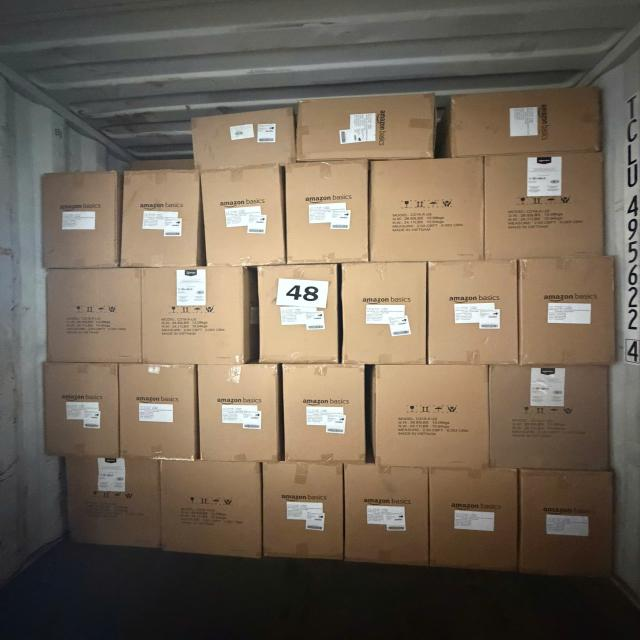Carton: (485, 154, 611, 262), (487, 366, 613, 472), (372, 364, 494, 470), (369, 162, 485, 268), (0, 165, 116, 268), (449, 86, 608, 160), (518, 256, 618, 370), (137, 264, 248, 364), (518, 470, 616, 583), (157, 464, 259, 564), (429, 261, 522, 369), (431, 468, 522, 577), (303, 92, 441, 162), (44, 265, 142, 363), (65, 456, 165, 550), (342, 459, 428, 566), (340, 262, 426, 368), (288, 157, 372, 264), (195, 363, 279, 467), (282, 362, 366, 464), (260, 457, 343, 560), (255, 262, 338, 364), (199, 168, 283, 268), (119, 166, 200, 268), (117, 364, 195, 464), (44, 359, 121, 458), (197, 109, 300, 172)
